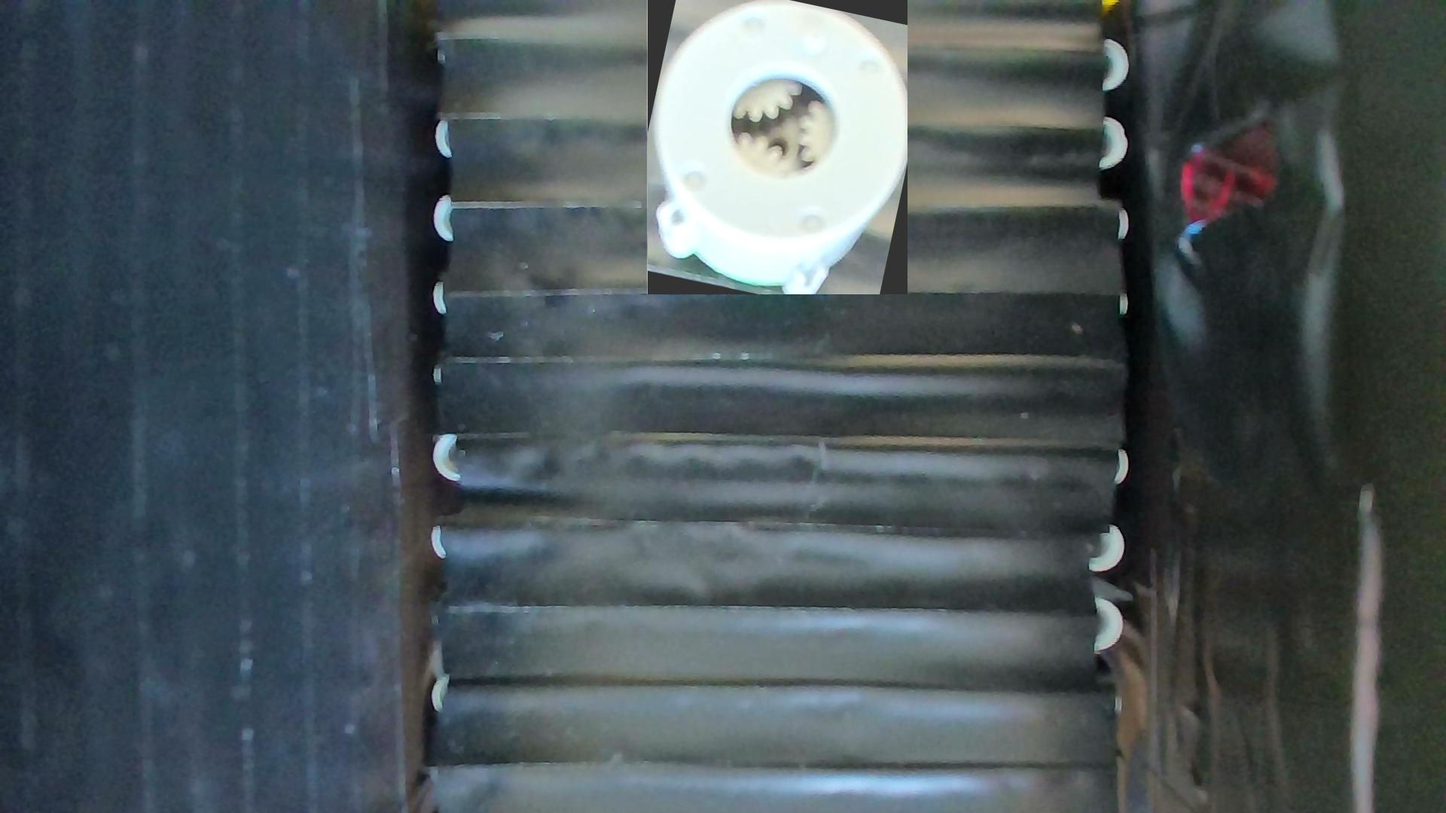cartridge: (646, 0, 907, 294)
